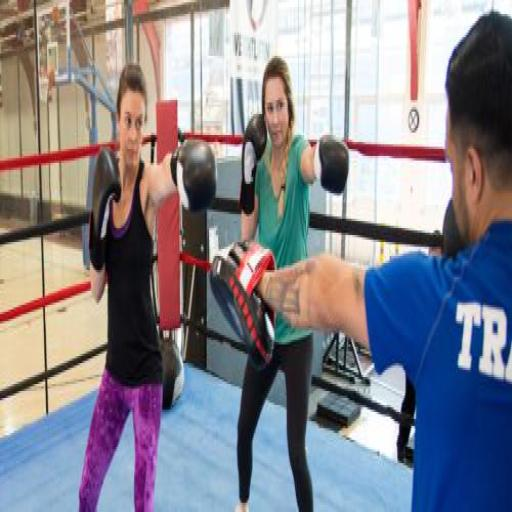boxing: (188, 18, 332, 486), (92, 60, 219, 496)
